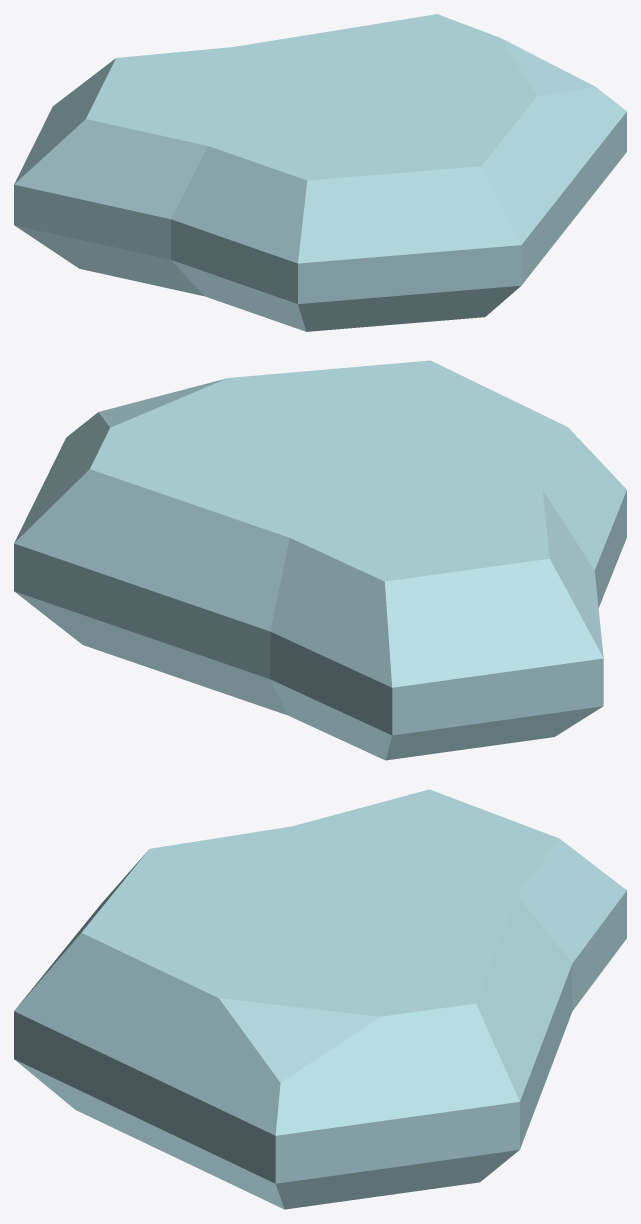
Rendered from stone_largeE.dae.
3 views of the same model, one above another, from view 1: azimuth 30°, elevation 25°; view 2: azimuth 150°, elevation 25°; view 3: azimuth 270°, elevation 25° (orthographic). The views are drawn at different scales.
Visible parts, largest first — view 1: stone_largeE; view 2: stone_largeE; view 3: stone_largeE.
Boxes of the visible parts, x1,y1,x2,y2 form: stone_largeE: (14, 14, 626, 331); stone_largeE: (14, 360, 626, 760); stone_largeE: (14, 789, 626, 1209).
Bounding box in the file's own units: 1.1 × 0.2922 × 0.9199.
